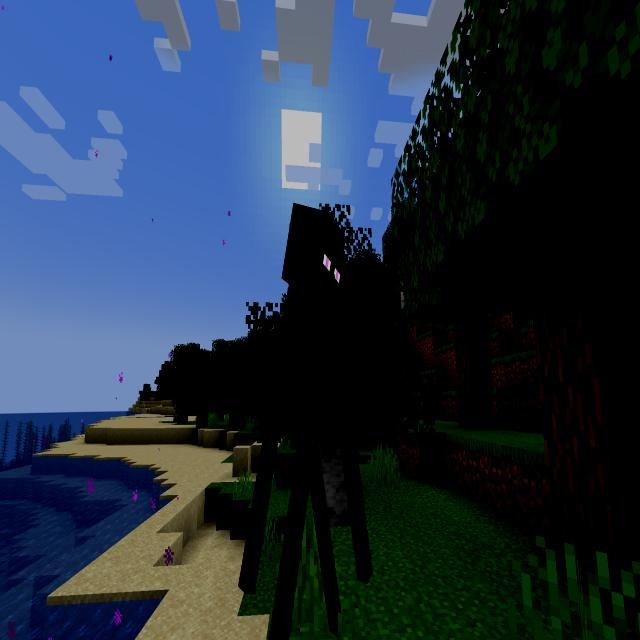Enderman: (225, 174, 398, 640)
